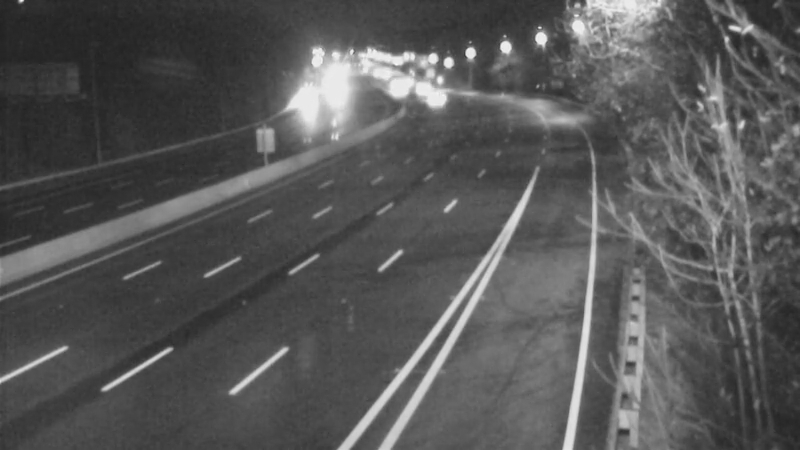vehicle: (396, 61, 446, 111), (368, 66, 418, 116), (405, 69, 455, 119)
